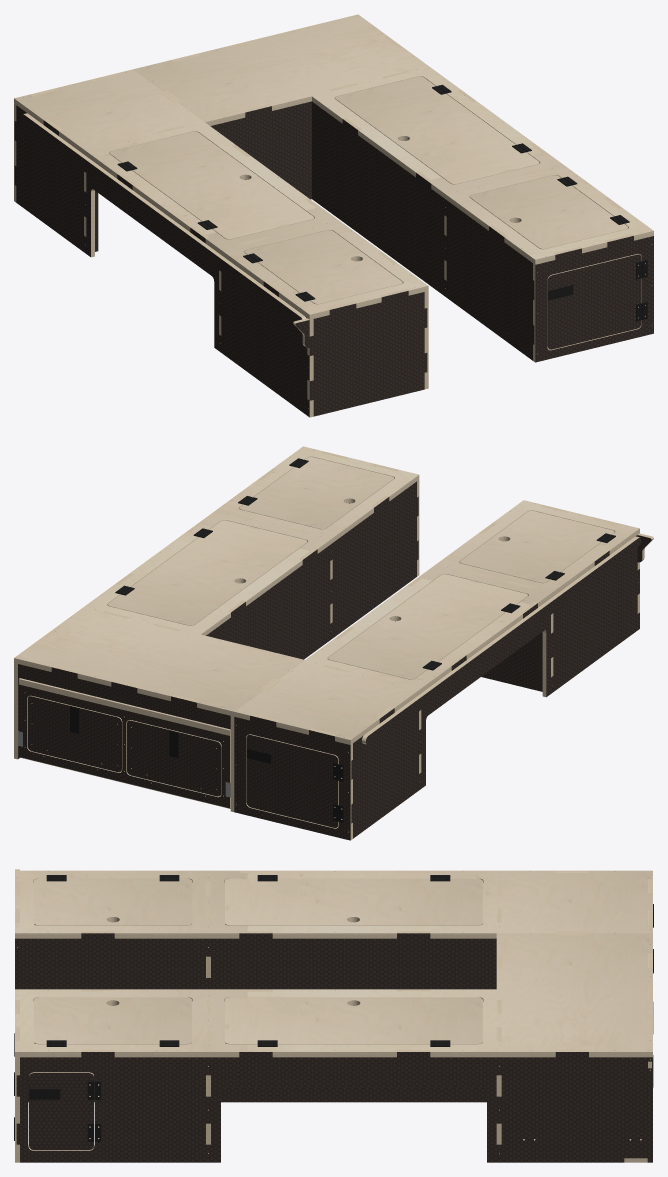
File: lounge-bed-hexa.glb
3 renders of one model, top to bottom at view 1: azimuth 30°, elevation 25°; view 2: azimuth 150°, elevation 25°; view 3: azimuth 270°, elevation 25°, orthographic. The views are drawn at different scales.
Visible parts, largest first — view 1: ボディ49 (1)_1, ボディ151_1, ボディ169_1, ボディ48 (1)_1, ボディ173_1, ボディ46 (1)_1, ボディ45 (1)_1, 扉_1, ボディ44 (1)_1, ボディ47 (1)_1, ボディ163_1, ボディ156_1 (+7 smaller); view 2: ボディ49 (1)_1, ボディ169_1, ボディ48 (1)_1, ボディ151_1, ボディ46 (1)_1, ボディ45 (1)_1, 扉 (2)_1, ボディ44 (1)_1, ボディ47 (1)_1, ボディ30 (1)_1, ボディ29 (1)_1, ボディ32 (1)_1 (+11 smaller); view 3: ボディ159_1, ボディ49 (1)_1, ボディ165_1, ボディ48 (1)_1, ボディ45 (1)_1, ボディ46 (1)_1, ボディ47 (1)_1, ボディ44 (1)_1, 扉 (1)_1, ボディ151_1, ボディ49 (1)_0, ボディ48 (1)_0 (+2 smaller).
Boxes of the visible parts, x1=… form: ボディ49 (1)_1: x1=133, y1=14, x2=653, y2=259; ボディ151_1: x1=312, y1=101, x2=534, y2=360; ボディ169_1: x1=14, y1=105, x2=309, y2=417; ボディ48 (1)_1: x1=14, y1=69, x2=427, y2=314; ボディ173_1: x1=309, y1=291, x2=427, y2=416; ボディ46 (1)_1: x1=335, y1=76, x2=539, y2=183; ボディ45 (1)_1: x1=110, y1=131, x2=313, y2=238; 扉_1: x1=547, y1=254, x2=641, y2=349; ボディ44 (1)_1: x1=470, y1=175, x2=627, y2=248; ボディ47 (1)_1: x1=244, y1=230, x2=402, y2=303; ボディ163_1: x1=210, y1=101, x2=311, y2=199; ボディ156_1: x1=535, y1=236, x2=653, y2=362; ボディ49 (1)_1: x1=14, y1=446, x2=418, y2=711; ボディ169_1: x1=351, y1=535, x2=639, y2=838; ボディ48 (1)_1: x1=235, y1=500, x2=639, y2=739; ボディ151_1: x1=206, y1=481, x2=418, y2=659; ボディ46 (1)_1: x1=108, y1=520, x2=307, y2=625; ボディ45 (1)_1: x1=328, y1=574, x2=527, y2=679; 扉 (2)_1: x1=246, y1=735, x2=338, y2=827; ボディ44 (1)_1: x1=239, y1=457, x2=393, y2=528; ボディ47 (1)_1: x1=460, y1=510, x2=614, y2=582; ボディ30 (1)_1: x1=127, y1=720, x2=221, y2=796; ボディ29 (1)_1: x1=27, y1=696, x2=121, y2=772; ボディ32 (1)_1: x1=19, y1=684, x2=229, y2=808; ボディ159_1: x1=16, y1=1052, x2=652, y2=1162; ボディ49 (1)_1: x1=15, y1=933, x2=652, y2=1051; ボディ165_1: x1=15, y1=933, x2=496, y2=989; ボディ48 (1)_1: x1=15, y1=870, x2=652, y2=933; ボディ45 (1)_1: x1=225, y1=878, x2=482, y2=925; ボディ46 (1)_1: x1=225, y1=997, x2=482, y2=1043; ボディ47 (1)_1: x1=34, y1=878, x2=191, y2=925; ボディ44 (1)_1: x1=34, y1=997, x2=191, y2=1043; 扉 (1)_1: x1=29, y1=1073, x2=93, y2=1149; ボディ151_1: x1=28, y1=1005, x2=486, y2=1102; ボディ49 (1)_0: x1=15, y1=934, x2=652, y2=1057; ボディ48 (1)_0: x1=15, y1=871, x2=650, y2=938.
Bounding box in the file's own units: 1.35 × 0.371 × 1.93.
5 materials, 3 textured.
